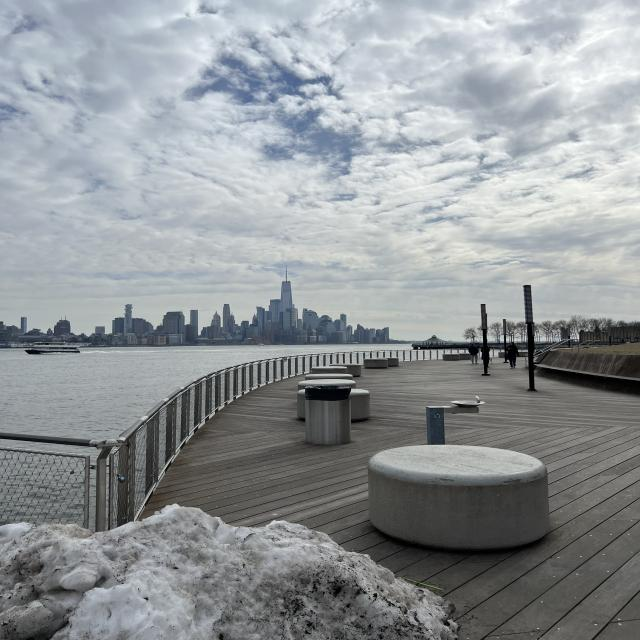WTC: (280, 265, 293, 304)
